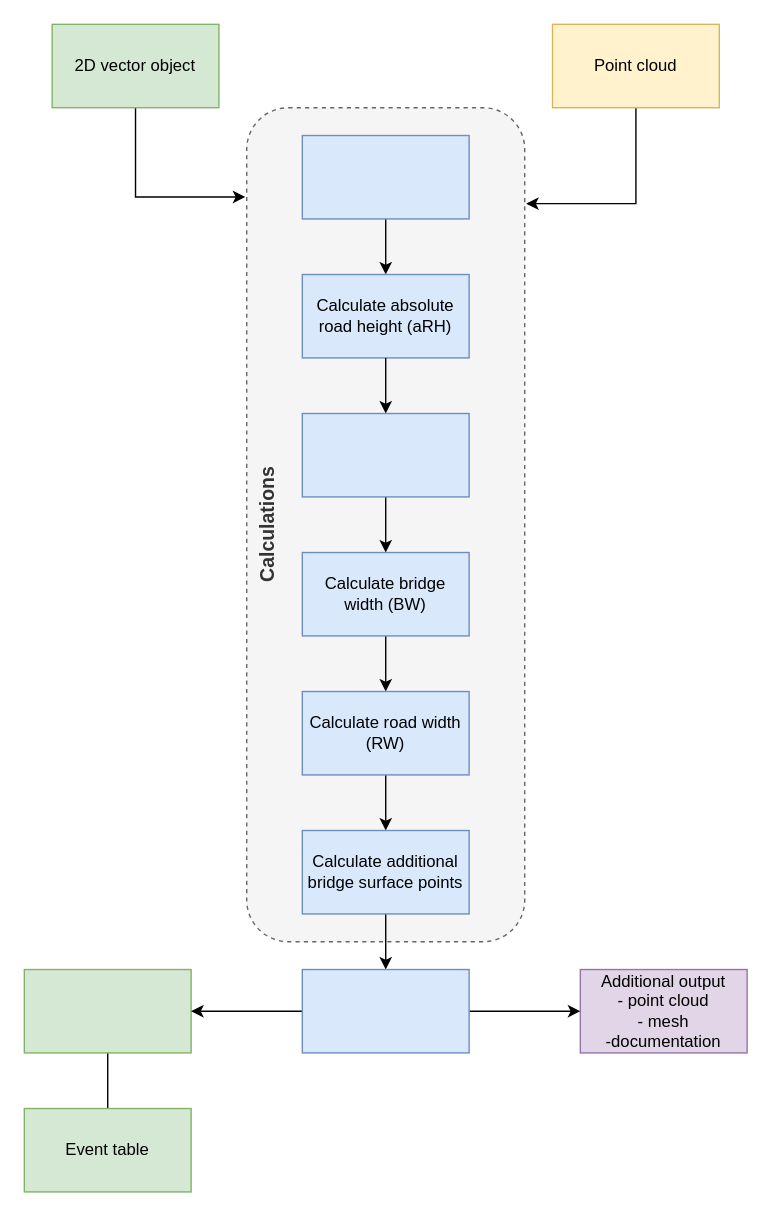
Image size: 771x1216. Some labels were removed from this diagram. The shapes that lost their labels are listed below. From the top down, each one's box as (x1, y1, x2, y2) in pixels, then its label:
(301, 134, 469, 219): Calculate absolute bridge height (aBH)
(301, 412, 469, 497): Calculate relative bridge height (rBH)
(23, 968, 191, 1053): Updated 2D object with attributes
(301, 968, 469, 1053): Collect all calculated bridge-related points
